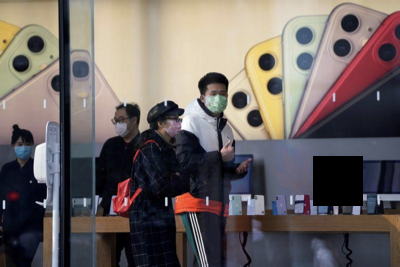with_mask: (206, 89, 228, 114), (113, 113, 131, 137), (14, 140, 32, 161), (165, 116, 183, 137)
